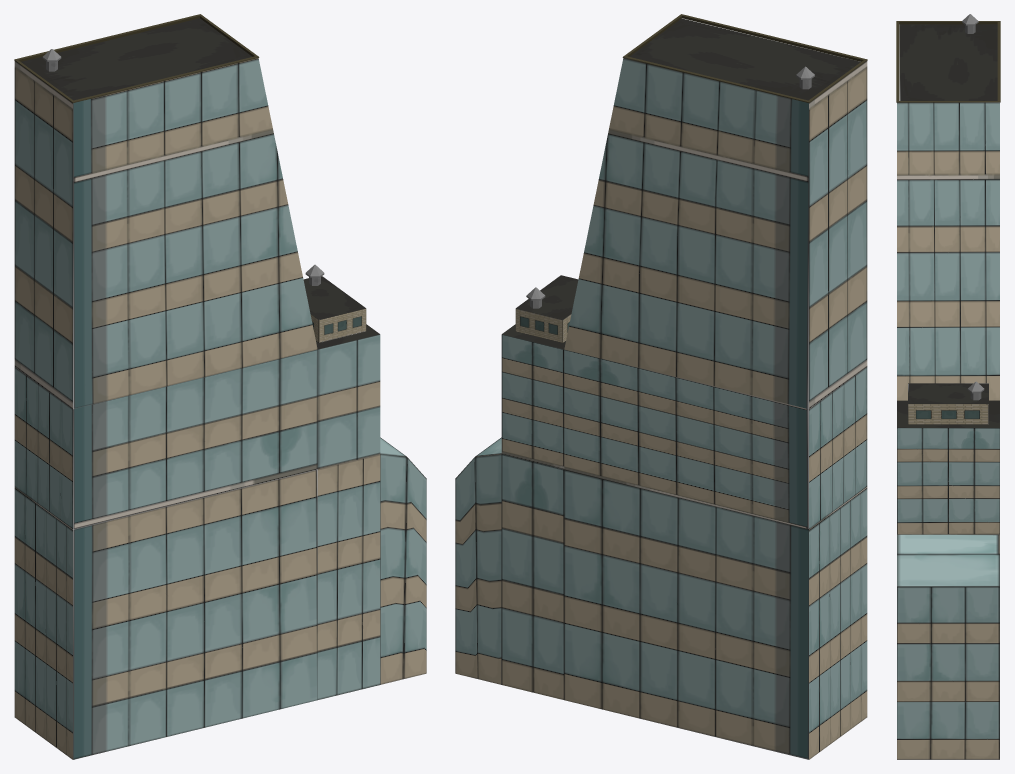
File: BuildingDes2.glb
The picture shows the model from 3 angles, left to right: view 1: azimuth 30°, elevation 25°; view 2: azimuth 150°, elevation 25°; view 3: azimuth 270°, elevation 25°; orthographic projection. The views are drawn at different scales.
Parts seen in each view (by area): view 1: Building; view 2: Building; view 3: Building, Cylinder.001, Cylinder.
Part boxes in pixels (left/top/right/bottom): Building: left=14, top=14, right=426, bottom=759; Building: left=455, top=14, right=867, bottom=759; Building: left=896, top=21, right=1000, bottom=759; Cylinder.001: left=962, top=14, right=978, bottom=33; Cylinder: left=967, top=381, right=984, bottom=400.
Bounding box in the file's own units: 7.04 × 12.84 × 2.02.
3 materials, 3 textured.
